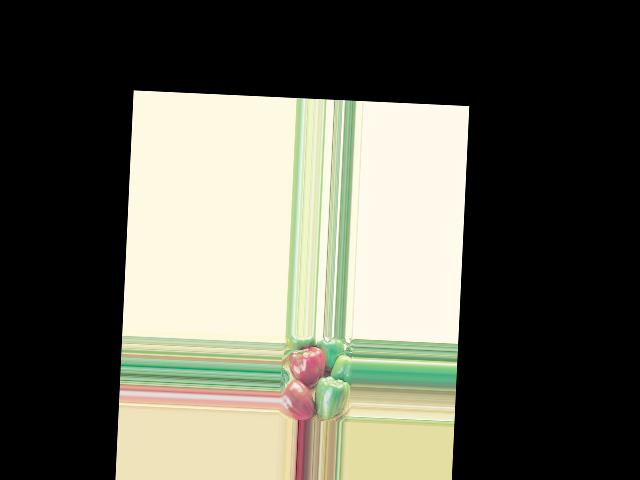bell_pepper: (280, 379, 313, 420)
